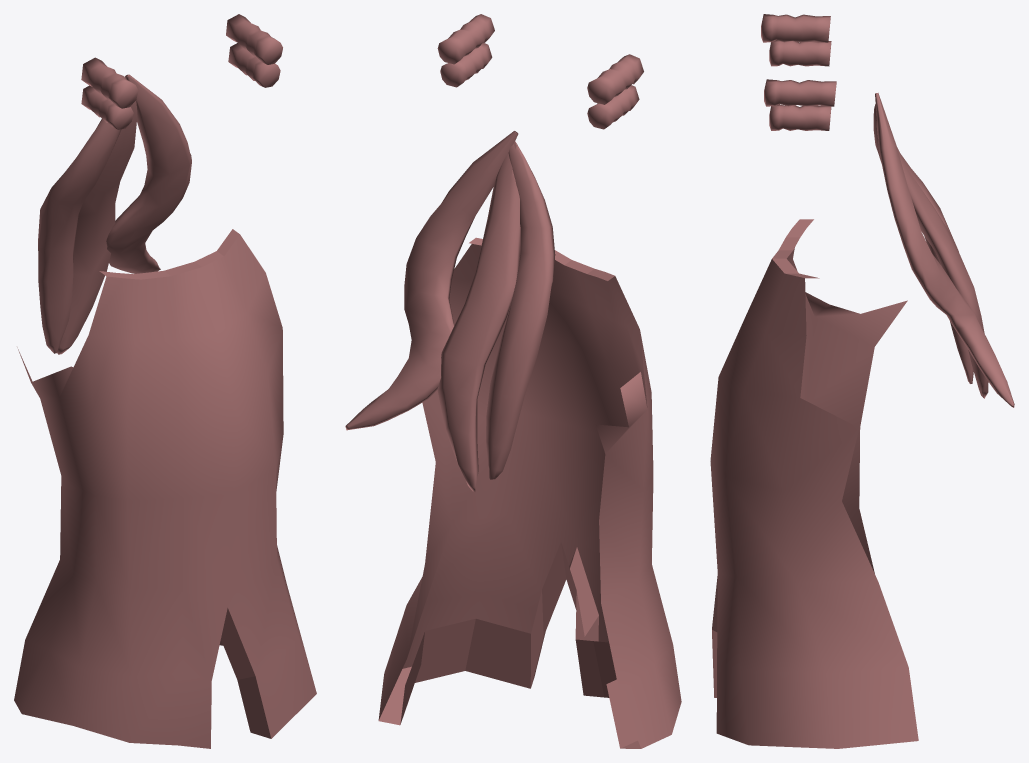
Rendered from chemise et couettes.fbx.
3 renders of one model, left to right at view 1: azimuth 30°, elevation 25°; view 2: azimuth 150°, elevation 25°; view 3: azimuth 270°, elevation 25°, orthographic.
Visible parts, largest first — view 1: polySurface399; view 2: polySurface399; view 3: polySurface399.
Boxes of the visible parts, left/top/right/bottom form: polySurface399: left=14, top=14, right=316, bottom=748; polySurface399: left=345, top=14, right=681, bottom=748; polySurface399: left=710, top=14, right=1014, bottom=748.
Bounding box in the file's own units: 0.44 × 0.417 × 1.01.
